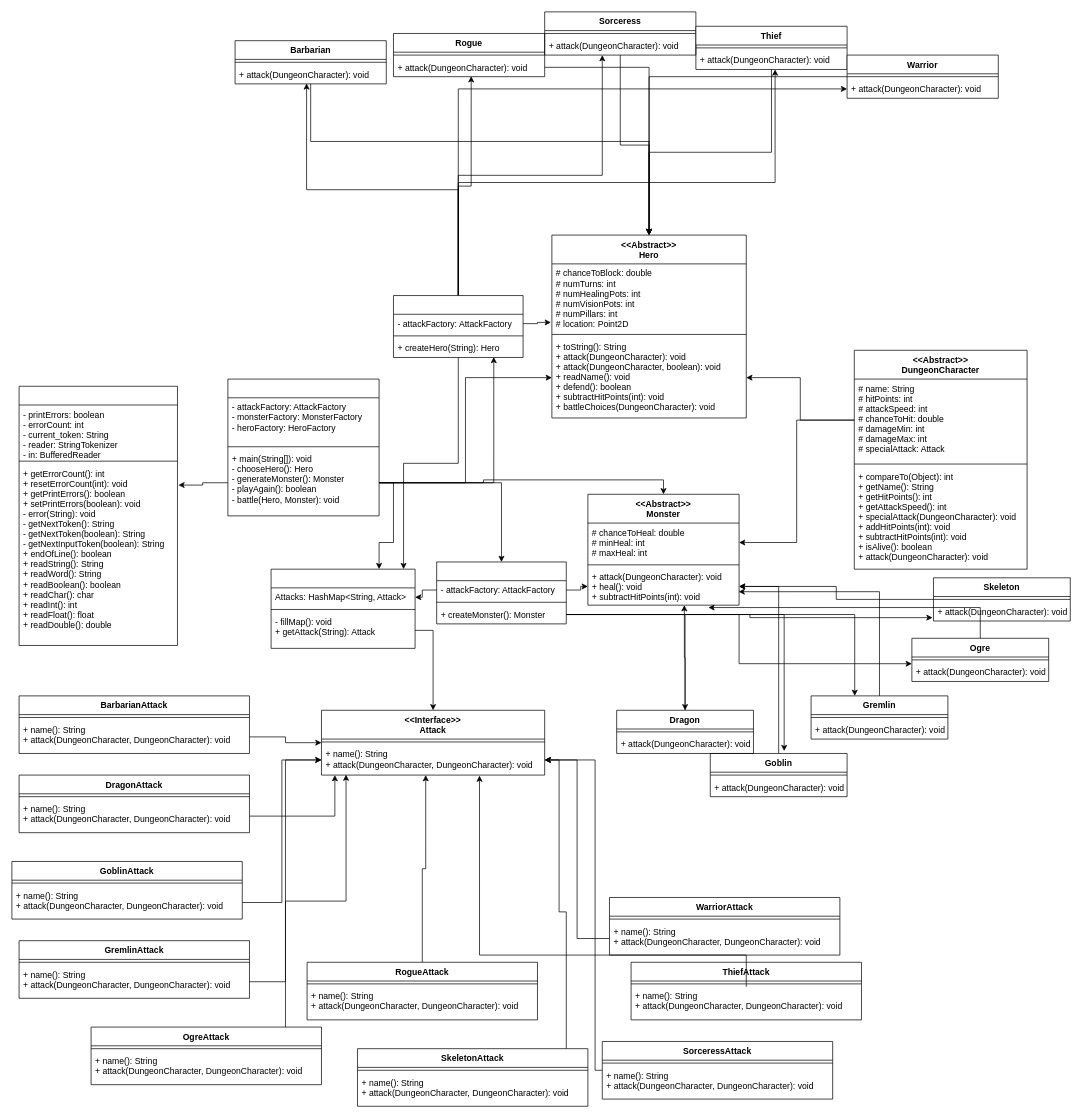
Some shapes in this 1082 by 1118 pixel diagram are drawn without their labels. The box of each missing label's shape, as (x1, y1, x2, y2) in pixels:
AttackFactory: (270, 568, 415, 648)
Dungeon: (227, 378, 379, 516)
HeroFactory: (393, 295, 523, 357)
Keyboard: (18, 386, 177, 645)
MonsterFactory: (436, 561, 566, 624)
